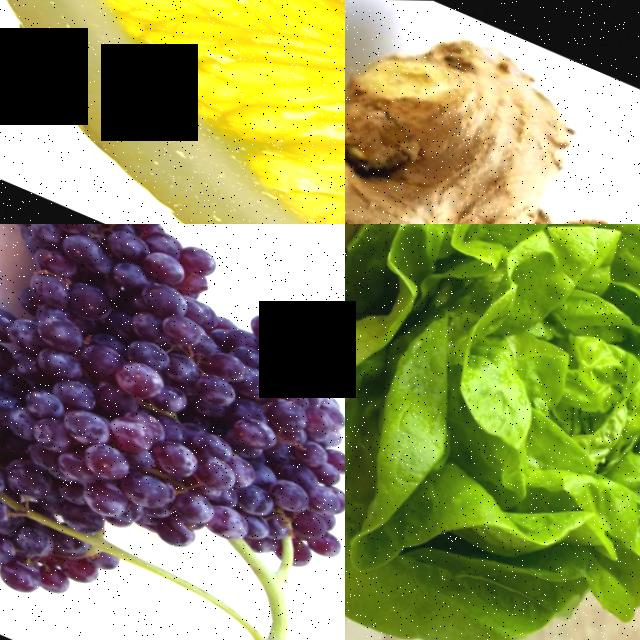ginger: (345, 0, 640, 224)
grapes: (0, 249, 345, 597), (0, 224, 278, 317), (0, 233, 81, 532), (0, 489, 116, 623)
lemon: (0, 0, 345, 224)
lettuce: (345, 224, 640, 640)
